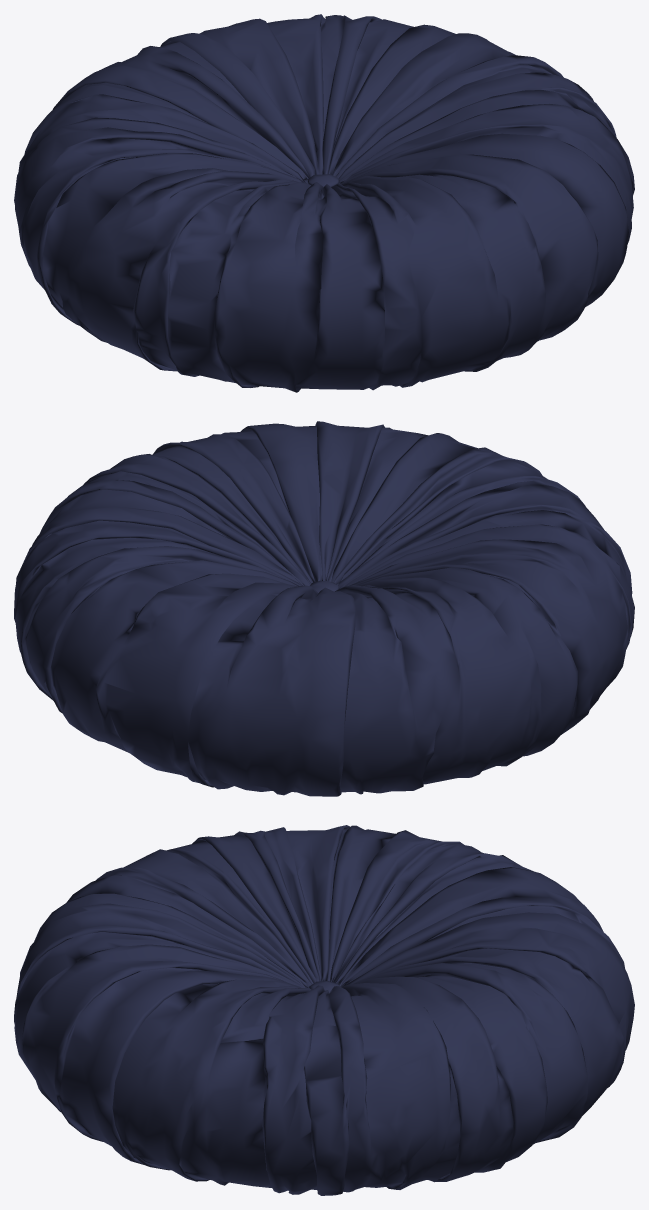
Rendered from SpecularSilkPouf.glb.
3 views of the same model, one above another, from view 1: azimuth 30°, elevation 25°; view 2: azimuth 150°, elevation 25°; view 3: azimuth 270°, elevation 25° (orthographic).
Visible parts, largest first — view 1: SpecularSilkPouf; view 2: SpecularSilkPouf; view 3: SpecularSilkPouf.
Part boxes in pixels (<box>): SpecularSilkPouf: <box>14,14,634,392</box>; SpecularSilkPouf: <box>14,421,634,796</box>; SpecularSilkPouf: <box>14,825,634,1195</box>.
Size of the model in its own units: 0.6099 by 0.1978 by 0.6098.
